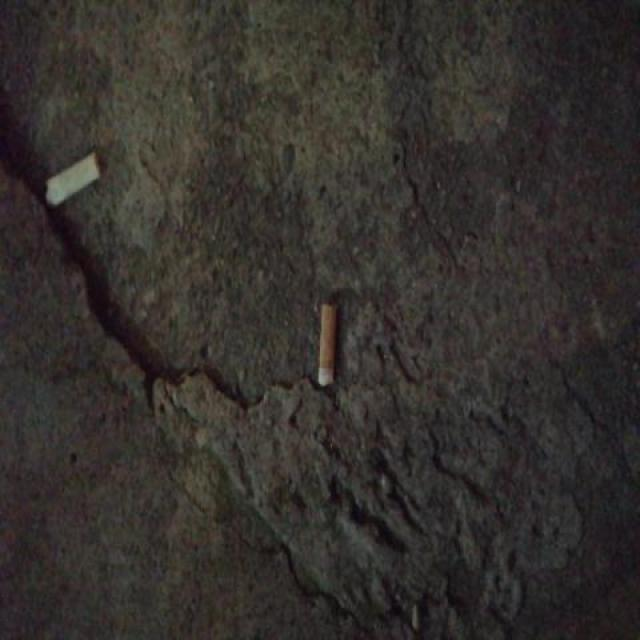non-organic waste: (39, 145, 105, 214), (314, 298, 342, 390)
